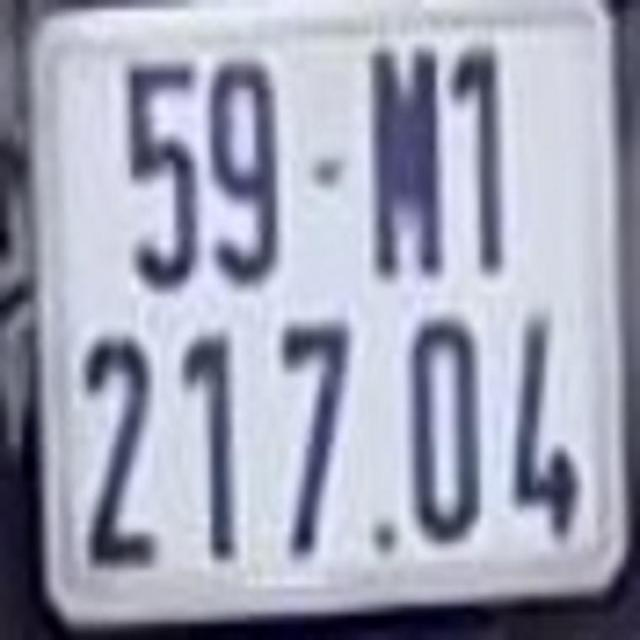0: (405, 304, 484, 546)
1: (175, 320, 246, 571), (446, 42, 513, 276)
2: (77, 322, 158, 568)
4: (510, 308, 582, 548)
5: (122, 49, 201, 289)
7: (278, 308, 357, 559)
9: (202, 52, 285, 286)
H: (367, 43, 446, 279)
